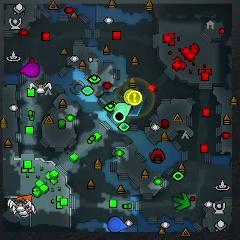Other: (128, 91, 142, 105)
p1: (107, 216, 128, 232)
p2: (114, 101, 132, 118)
p2Clone: (113, 110, 125, 123)
p3: (20, 61, 40, 77)
p4: (123, 89, 134, 104)
p5: (19, 193, 33, 201)
x4: (172, 193, 191, 210)
